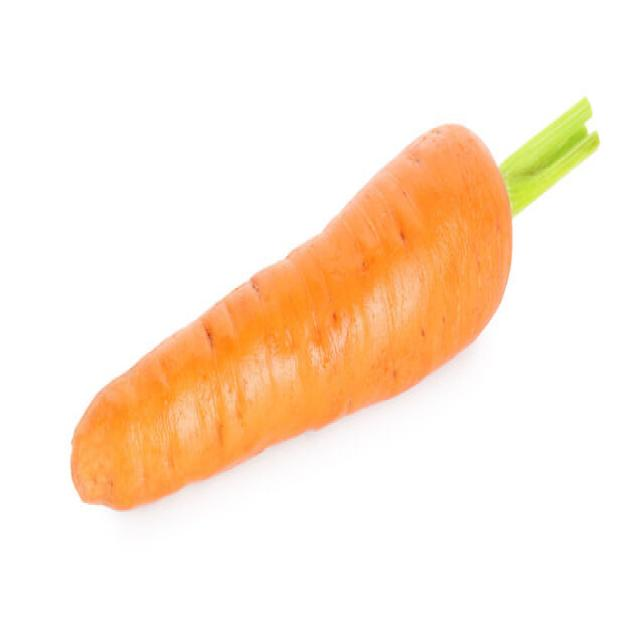Carrot: (68, 94, 599, 512)
